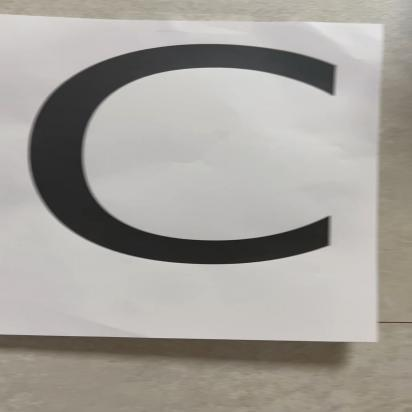seat: (8, 6, 376, 346)
